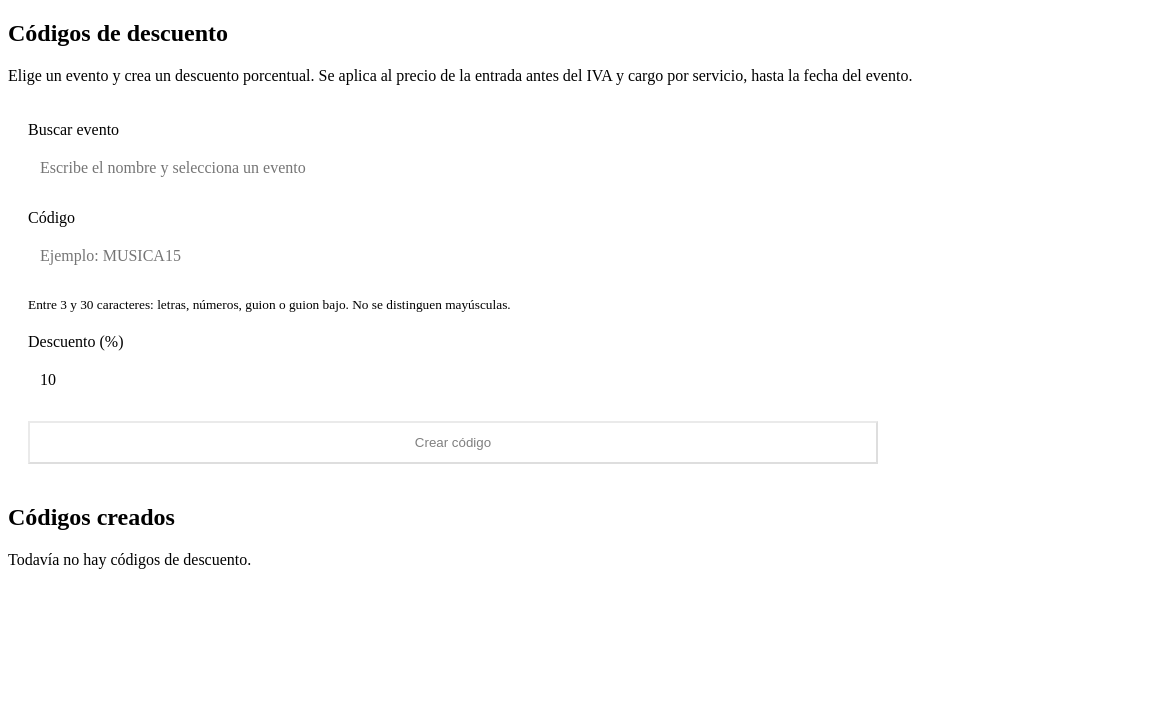
Test: Códigos de descuento del administrador › crea un código en mayúsculas para el evento elegido
Type "rock" into the dropdown labelled "Buscar evento". click: coordinates (453, 168)
box: top-left (28, 147), bottom-right (878, 189)
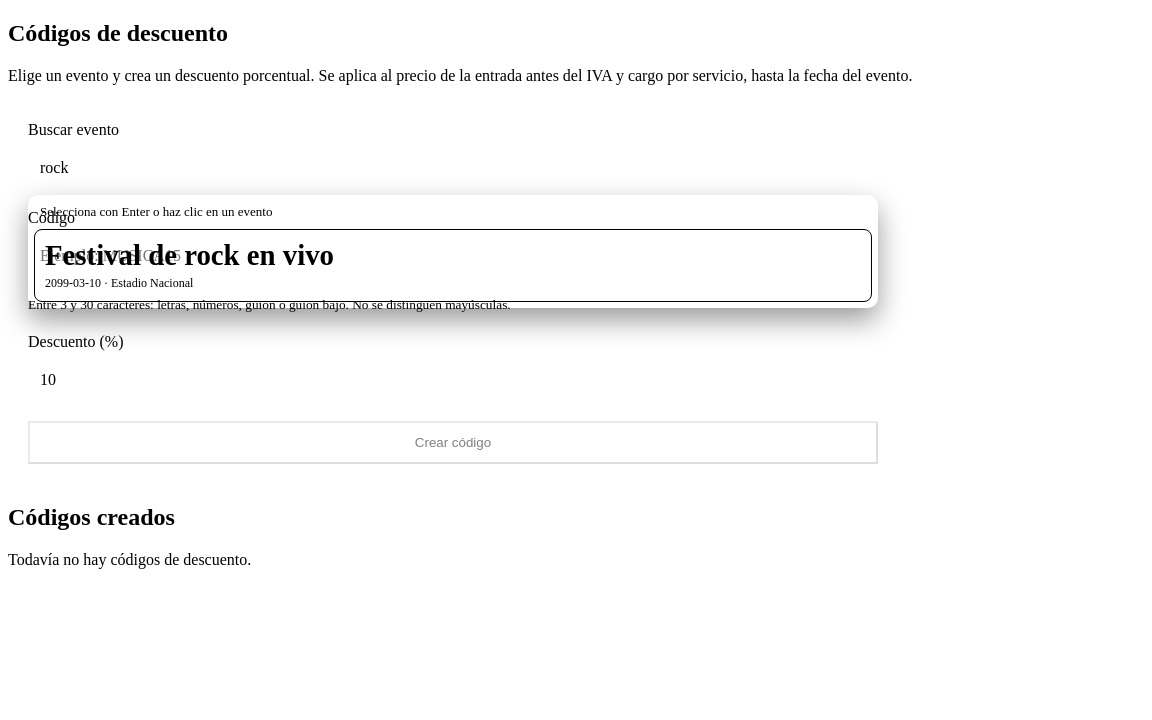
Click the option "Festival de rock en vivo 2099-03-10 · Estadio Nacional". click: coordinates (190, 255)
box: top-left (34, 229), bottom-right (872, 302)
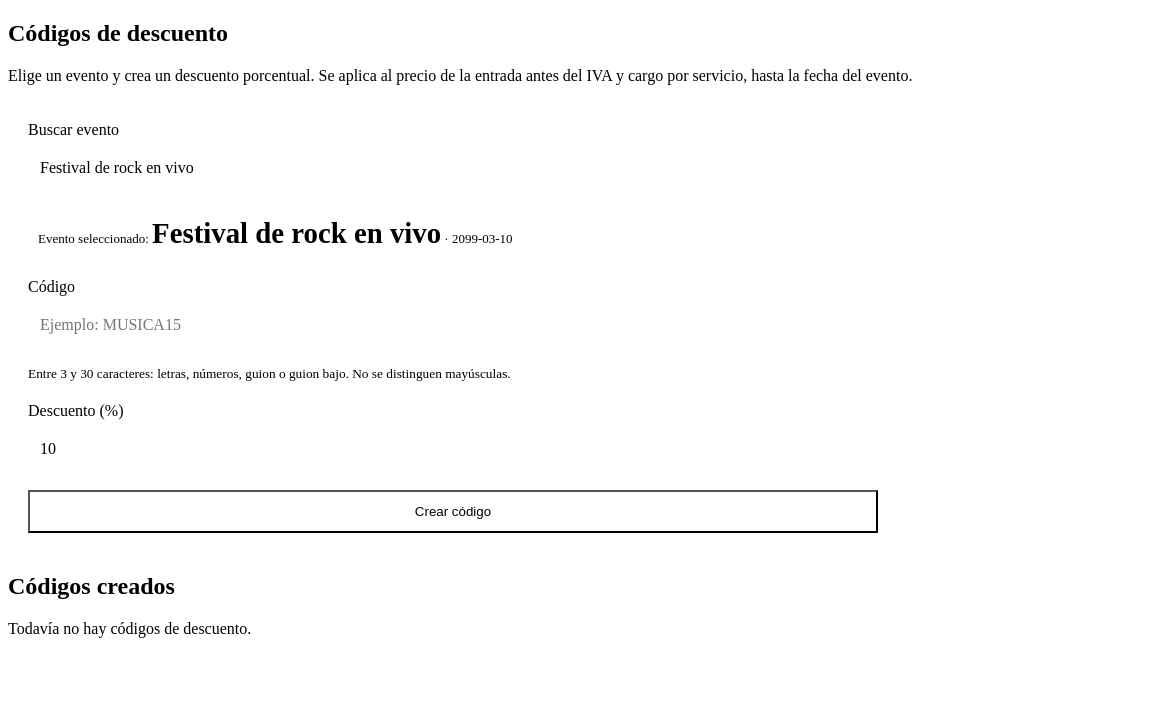
Type "musica15" into the field labelled "Código". click: coordinates (453, 325)
box: top-left (28, 304), bottom-right (878, 346)
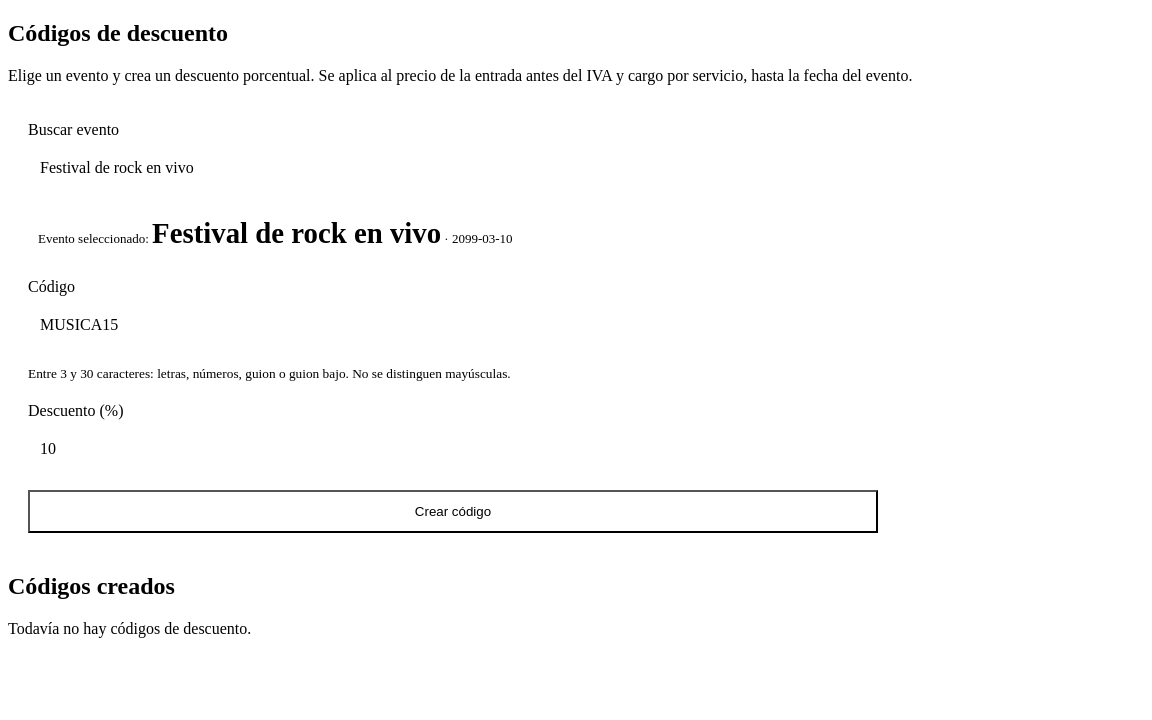
Replace the text in the number field labelled "Descuento (%)" with "15". click: coordinates (453, 449)
box: top-left (28, 428), bottom-right (878, 470)
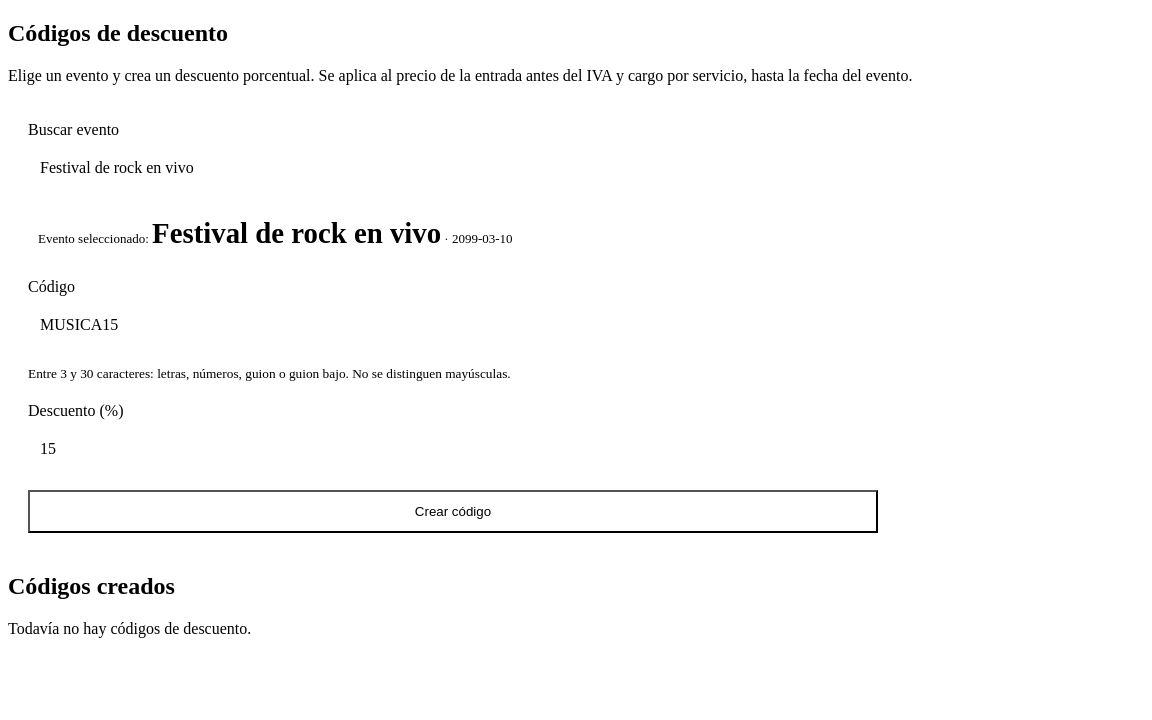
Submit the form, box top-left (8, 101), bottom-right (898, 553)
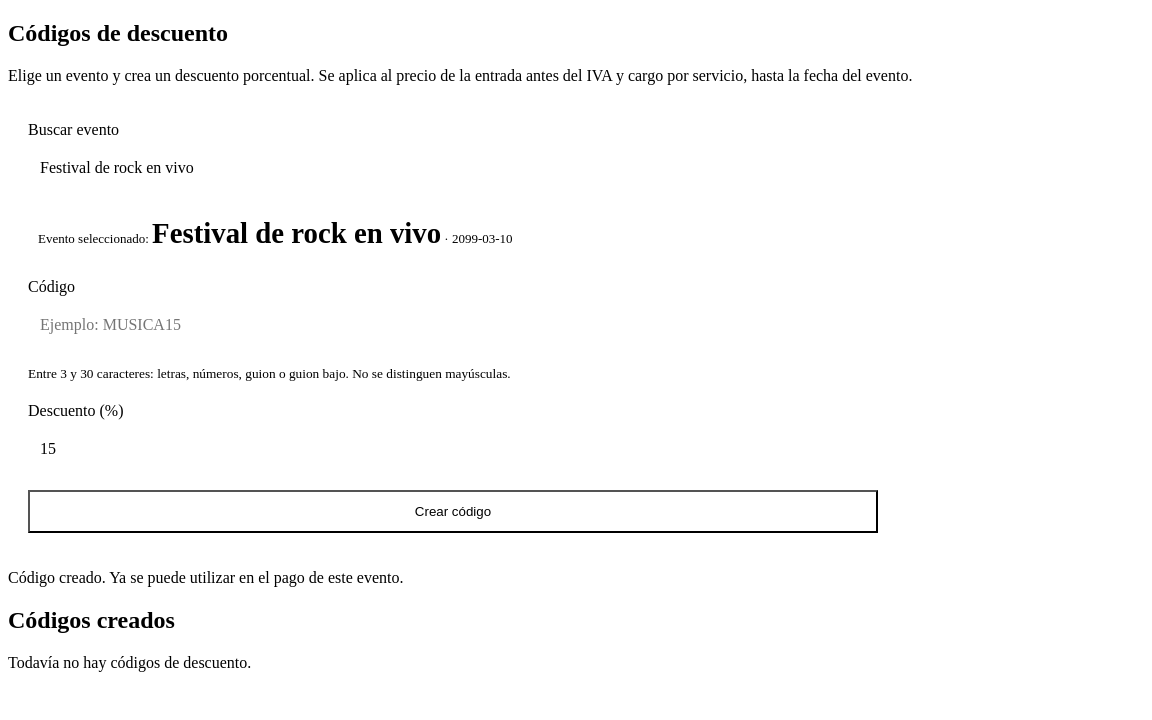
Check: the text "Código creado. Ya se puede utilizar en el pago de este evento." is shown, box top-left (8, 569), bottom-right (403, 586)
